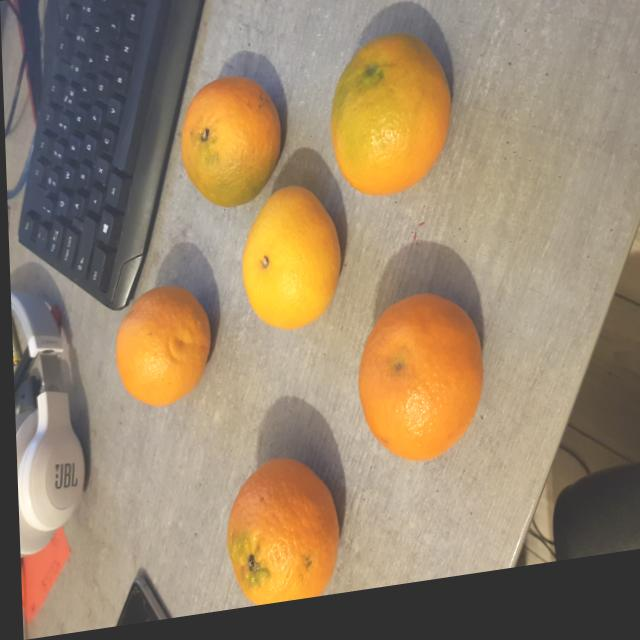Orange: (356, 304, 482, 474), (330, 44, 451, 207), (223, 464, 337, 613), (240, 193, 341, 338), (180, 81, 282, 214), (113, 288, 208, 411)
